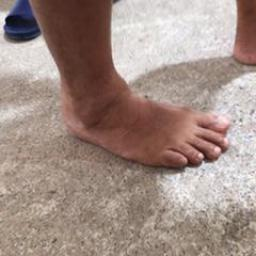Lateral View -Right Foot-: (49, 64, 234, 182)
